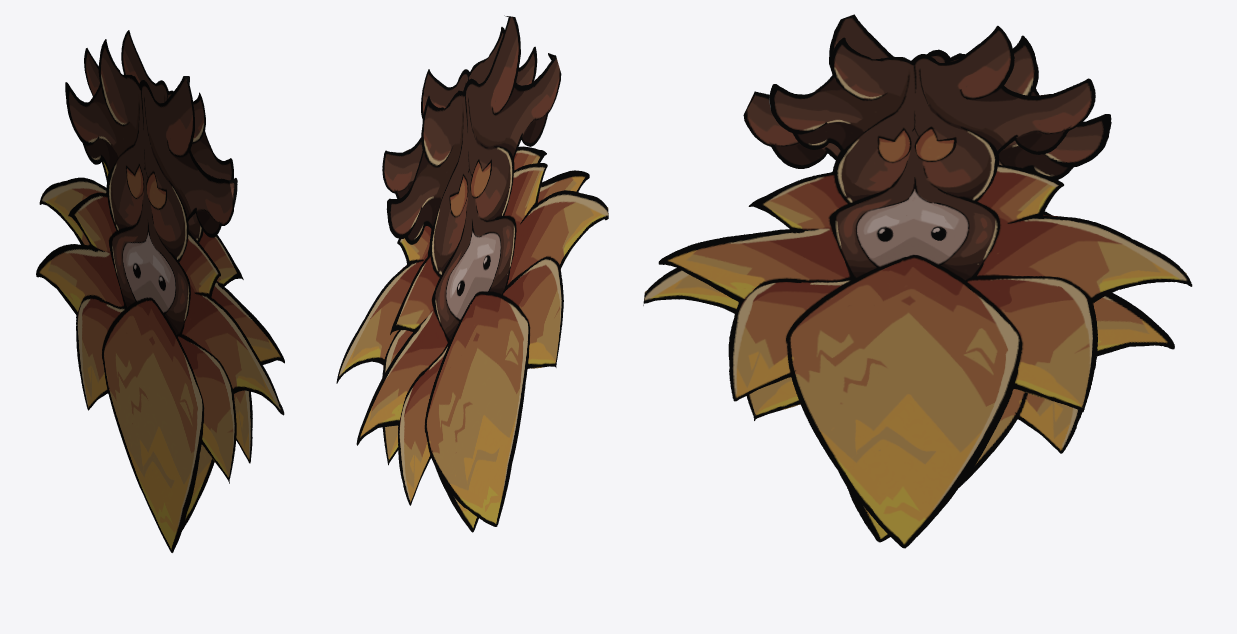
File: Arbol01.fbx
The picture shows the model from 3 angles, left to right: view 1: azimuth 30°, elevation 25°; view 2: azimuth 150°, elevation 25°; view 3: azimuth 270°, elevation 25°; orthographic projection. The views are drawn at different scales.
Visible parts, largest first — view 1: Arbol01; view 2: Arbol01; view 3: Arbol01.
Boxes of the visible parts, x1=… form: Arbol01: x1=36, y1=30, x2=284, y2=552; Arbol01: x1=336, y1=15, x2=608, y2=532; Arbol01: x1=643, y1=14, x2=1192, y2=548.
Bounding box in the file's own units: 2.74 × 125 × 110.
